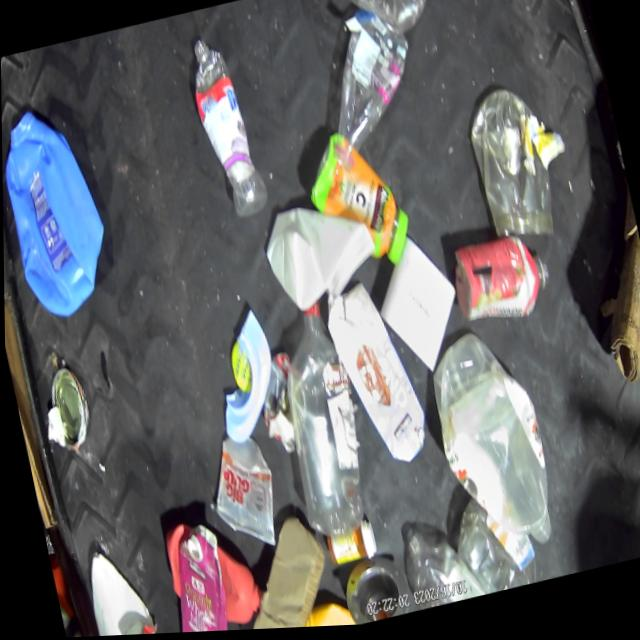can: (249, 352, 307, 461), (40, 360, 95, 456), (115, 616, 169, 636)
non_white_jug: (419, 324, 561, 570), (1, 94, 120, 327), (157, 507, 267, 635)
plastic_bottle: (307, 8, 431, 178), (181, 29, 270, 227)
